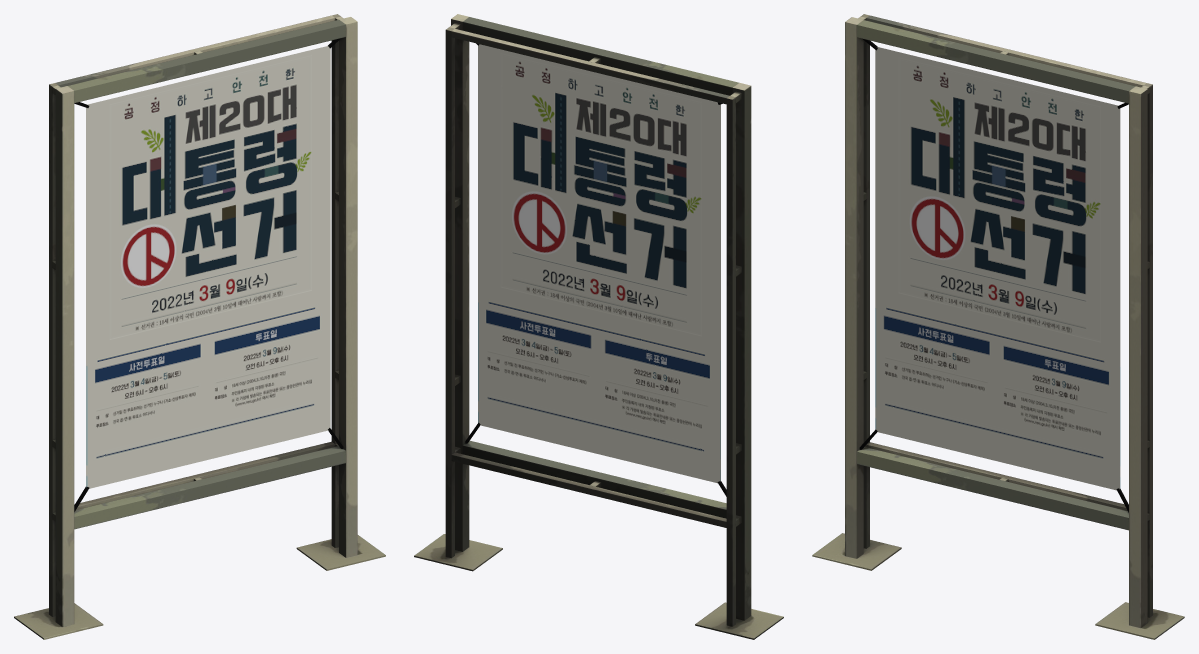
Rendered from thumbnail.fbx.
The picture shows the model from 3 angles, left to right: view 1: azimuth 30°, elevation 25°; view 2: azimuth 150°, elevation 25°; view 3: azimuth 330°, elevation 25°; orthographic projection.
Parts seen in each view (by area): view 1: thumbnail_001a, thumbnail_001; view 2: thumbnail_001a, thumbnail_001; view 3: thumbnail_001a, thumbnail_001.
Part boxes in pixels (x1,y1,x2,y2): thumbnail_001a: (86, 46, 330, 488); thumbnail_001: (14, 14, 385, 639); thumbnail_001a: (478, 44, 720, 483); thumbnail_001: (414, 14, 783, 639); thumbnail_001a: (875, 47, 1120, 490); thumbnail_001: (812, 14, 1184, 639).
Size of the model in its own units: 196 by 293 by 29.89.
